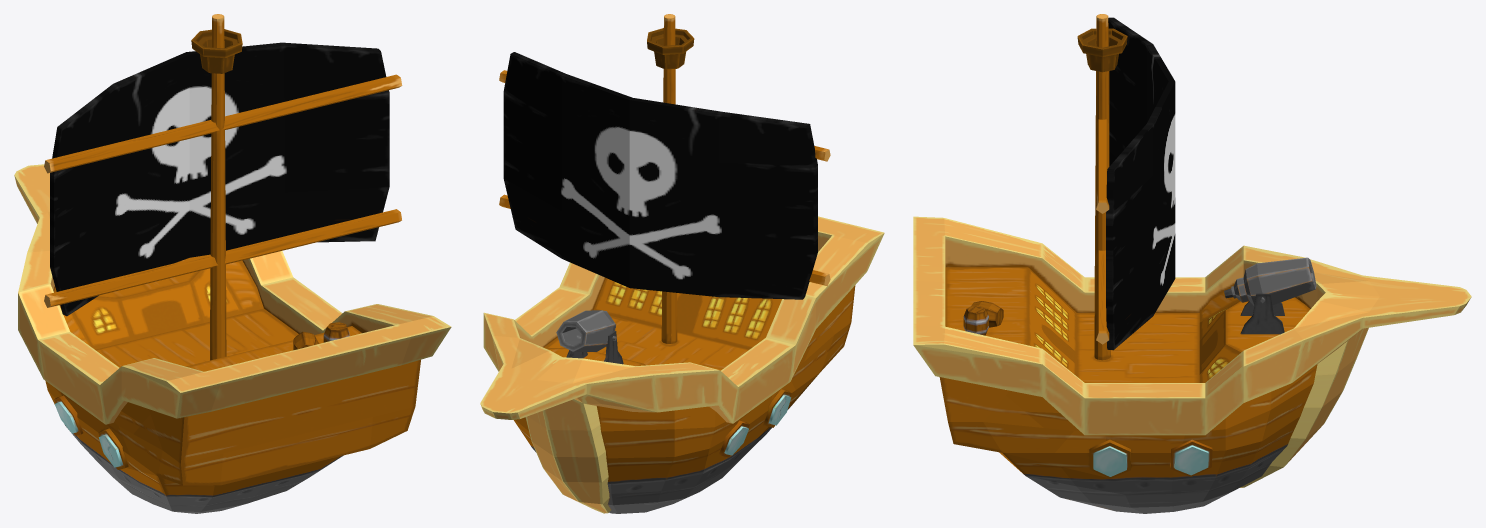
File: pirate.fbx
3 renders of one model, left to right at view 1: azimuth 30°, elevation 25°; view 2: azimuth 150°, elevation 25°; view 3: azimuth 270°, elevation 25°, orthographic. The views are drawn at different scales.
Visible parts, largest first — view 1: Plane003, Box001, Box002, Cylinder003, Cylinder004, Cylinder001, Cylinder002; view 2: Plane003, Box002, Box001, Box003, Cylinder015, Cylinder001, Cylinder002; view 3: Box001, Box002, Plane003, Box003, Cylinder015, Cylinder001, Cylinder002, Cylinder003, Plane005, Cylinder004, Cylinder020, Cylinder021 (+1 smaller).
Boxes of the visible parts, x1,y1,x2,y2 form: Plane003: (50,42,389,316); Box001: (45,255,420,513); Box002: (14,164,451,424); Cylinder003: (44,74,402,173); Cylinder004: (44,209,401,307); Cylinder001: (210,14,226,360); Cylinder002: (191,29,242,73); Plane003: (503,52,817,299); Box002: (480,216,884,423); Box001: (514,278,855,513); Box003: (525,399,610,513); Cylinder015: (556,310,615,351); Cylinder001: (661,14,677,343); Cylinder002: (647,28,694,69); Box001: (939,267,1317,513); Box002: (913,216,1471,435); Plane003: (1106,17,1175,350); Box003: (1240,327,1368,487); Cylinder015: (1224,257,1316,305); Cylinder001: (1094,14,1110,360); Cylinder002: (1077,28,1127,72); Cylinder003: (1096,71,1109,213); Plane005: (1240,293,1284,334); Cylinder004: (1096,250,1109,344); Cylinder020: (1093,446,1126,476); Cylinder021: (1174,445,1208,475).
Bounding box in the file's own units: 477 × 647 × 676.
